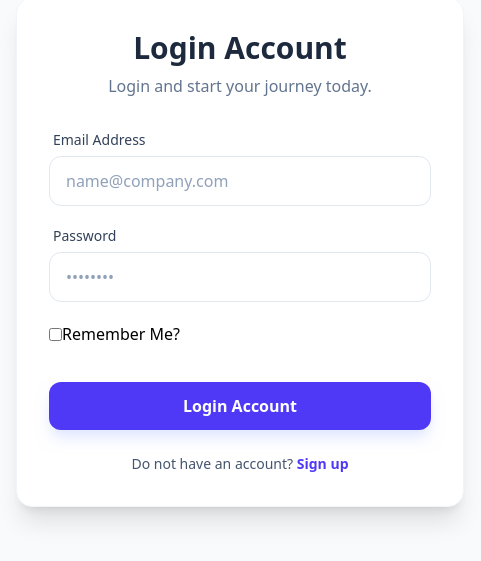
Test: Login Integration Test › Login Fail › Validation Error › When Email is empty,show the Error message under Email field
In the password field with placeholder "••••••••": [240, 277] box 49,252 -> 431,302, type "Awyd899?"
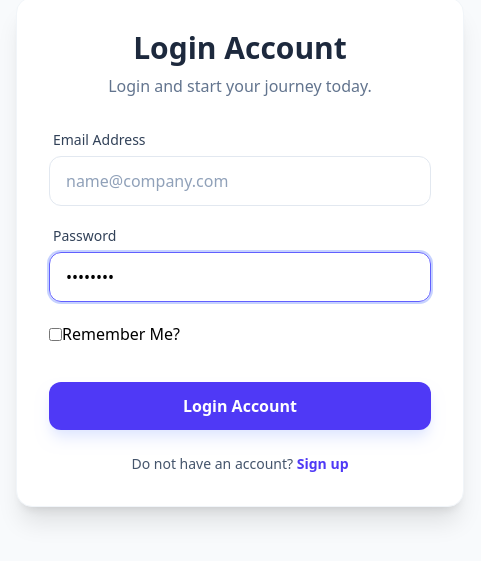
Click the button "Login Account": [240, 406] box 49,382 -> 431,430
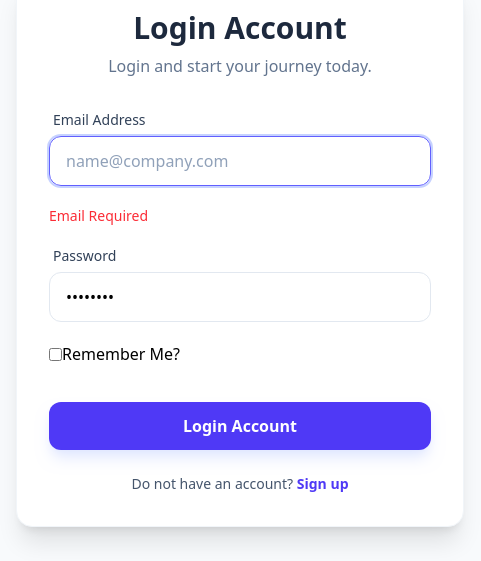
Now the text "Email Required" is shown, box 49,206 -> 148,225
